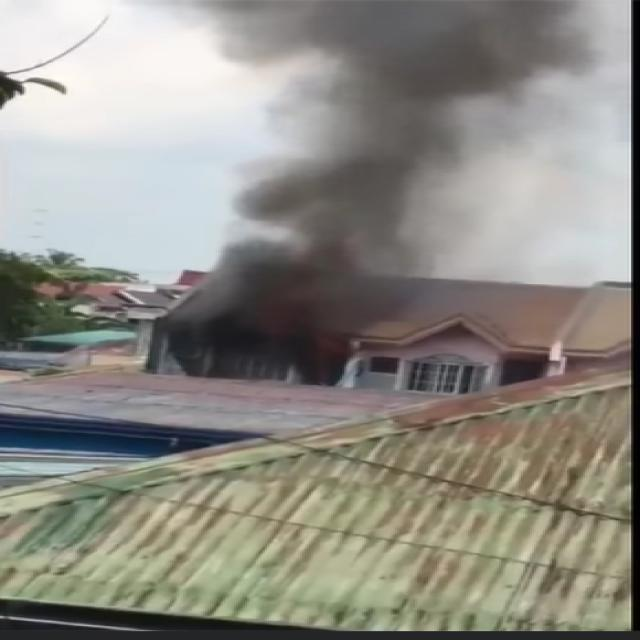Smoke: (167, 0, 555, 370)
